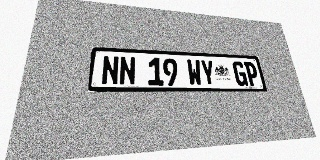1: (147, 57, 164, 85)
9: (163, 58, 179, 86)
G: (232, 61, 248, 86)
N: (101, 55, 119, 85), (119, 56, 135, 85)
P: (244, 62, 260, 86)
W: (186, 59, 203, 86)
Y: (200, 60, 216, 86)
